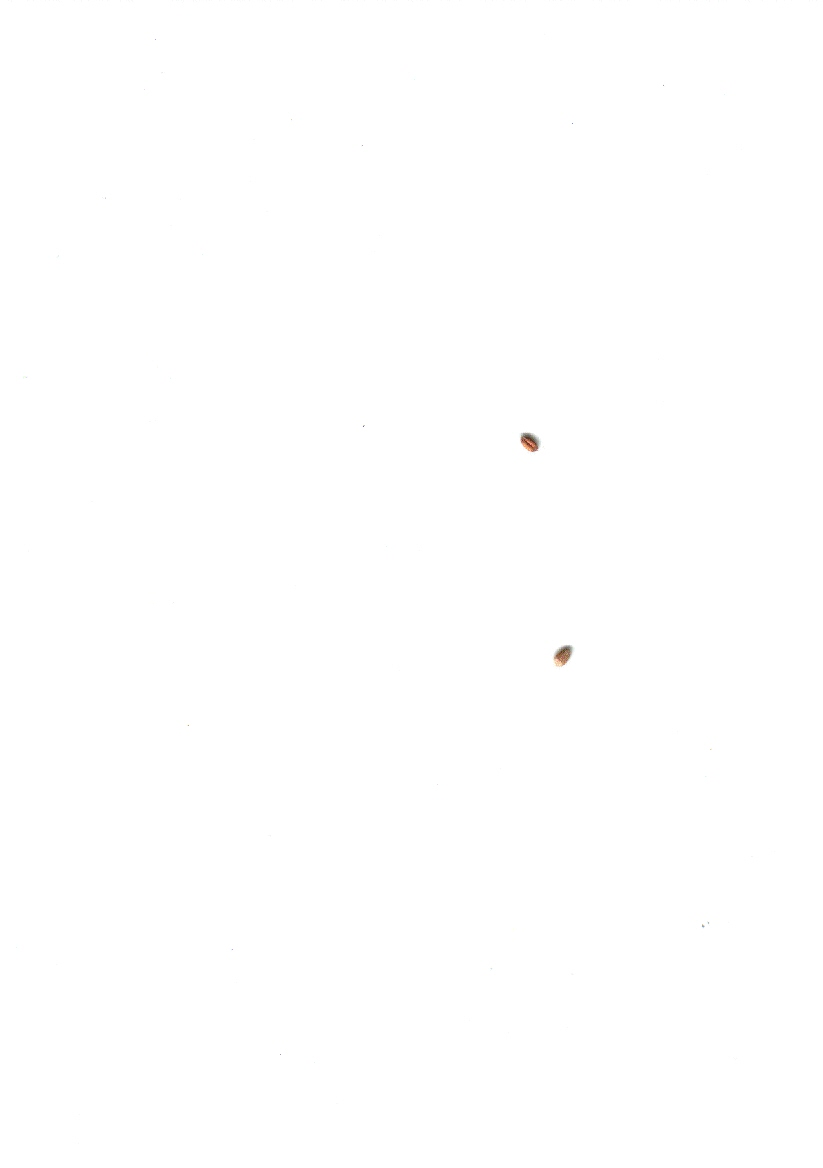grains: (508, 423, 555, 468), (541, 637, 586, 679)
